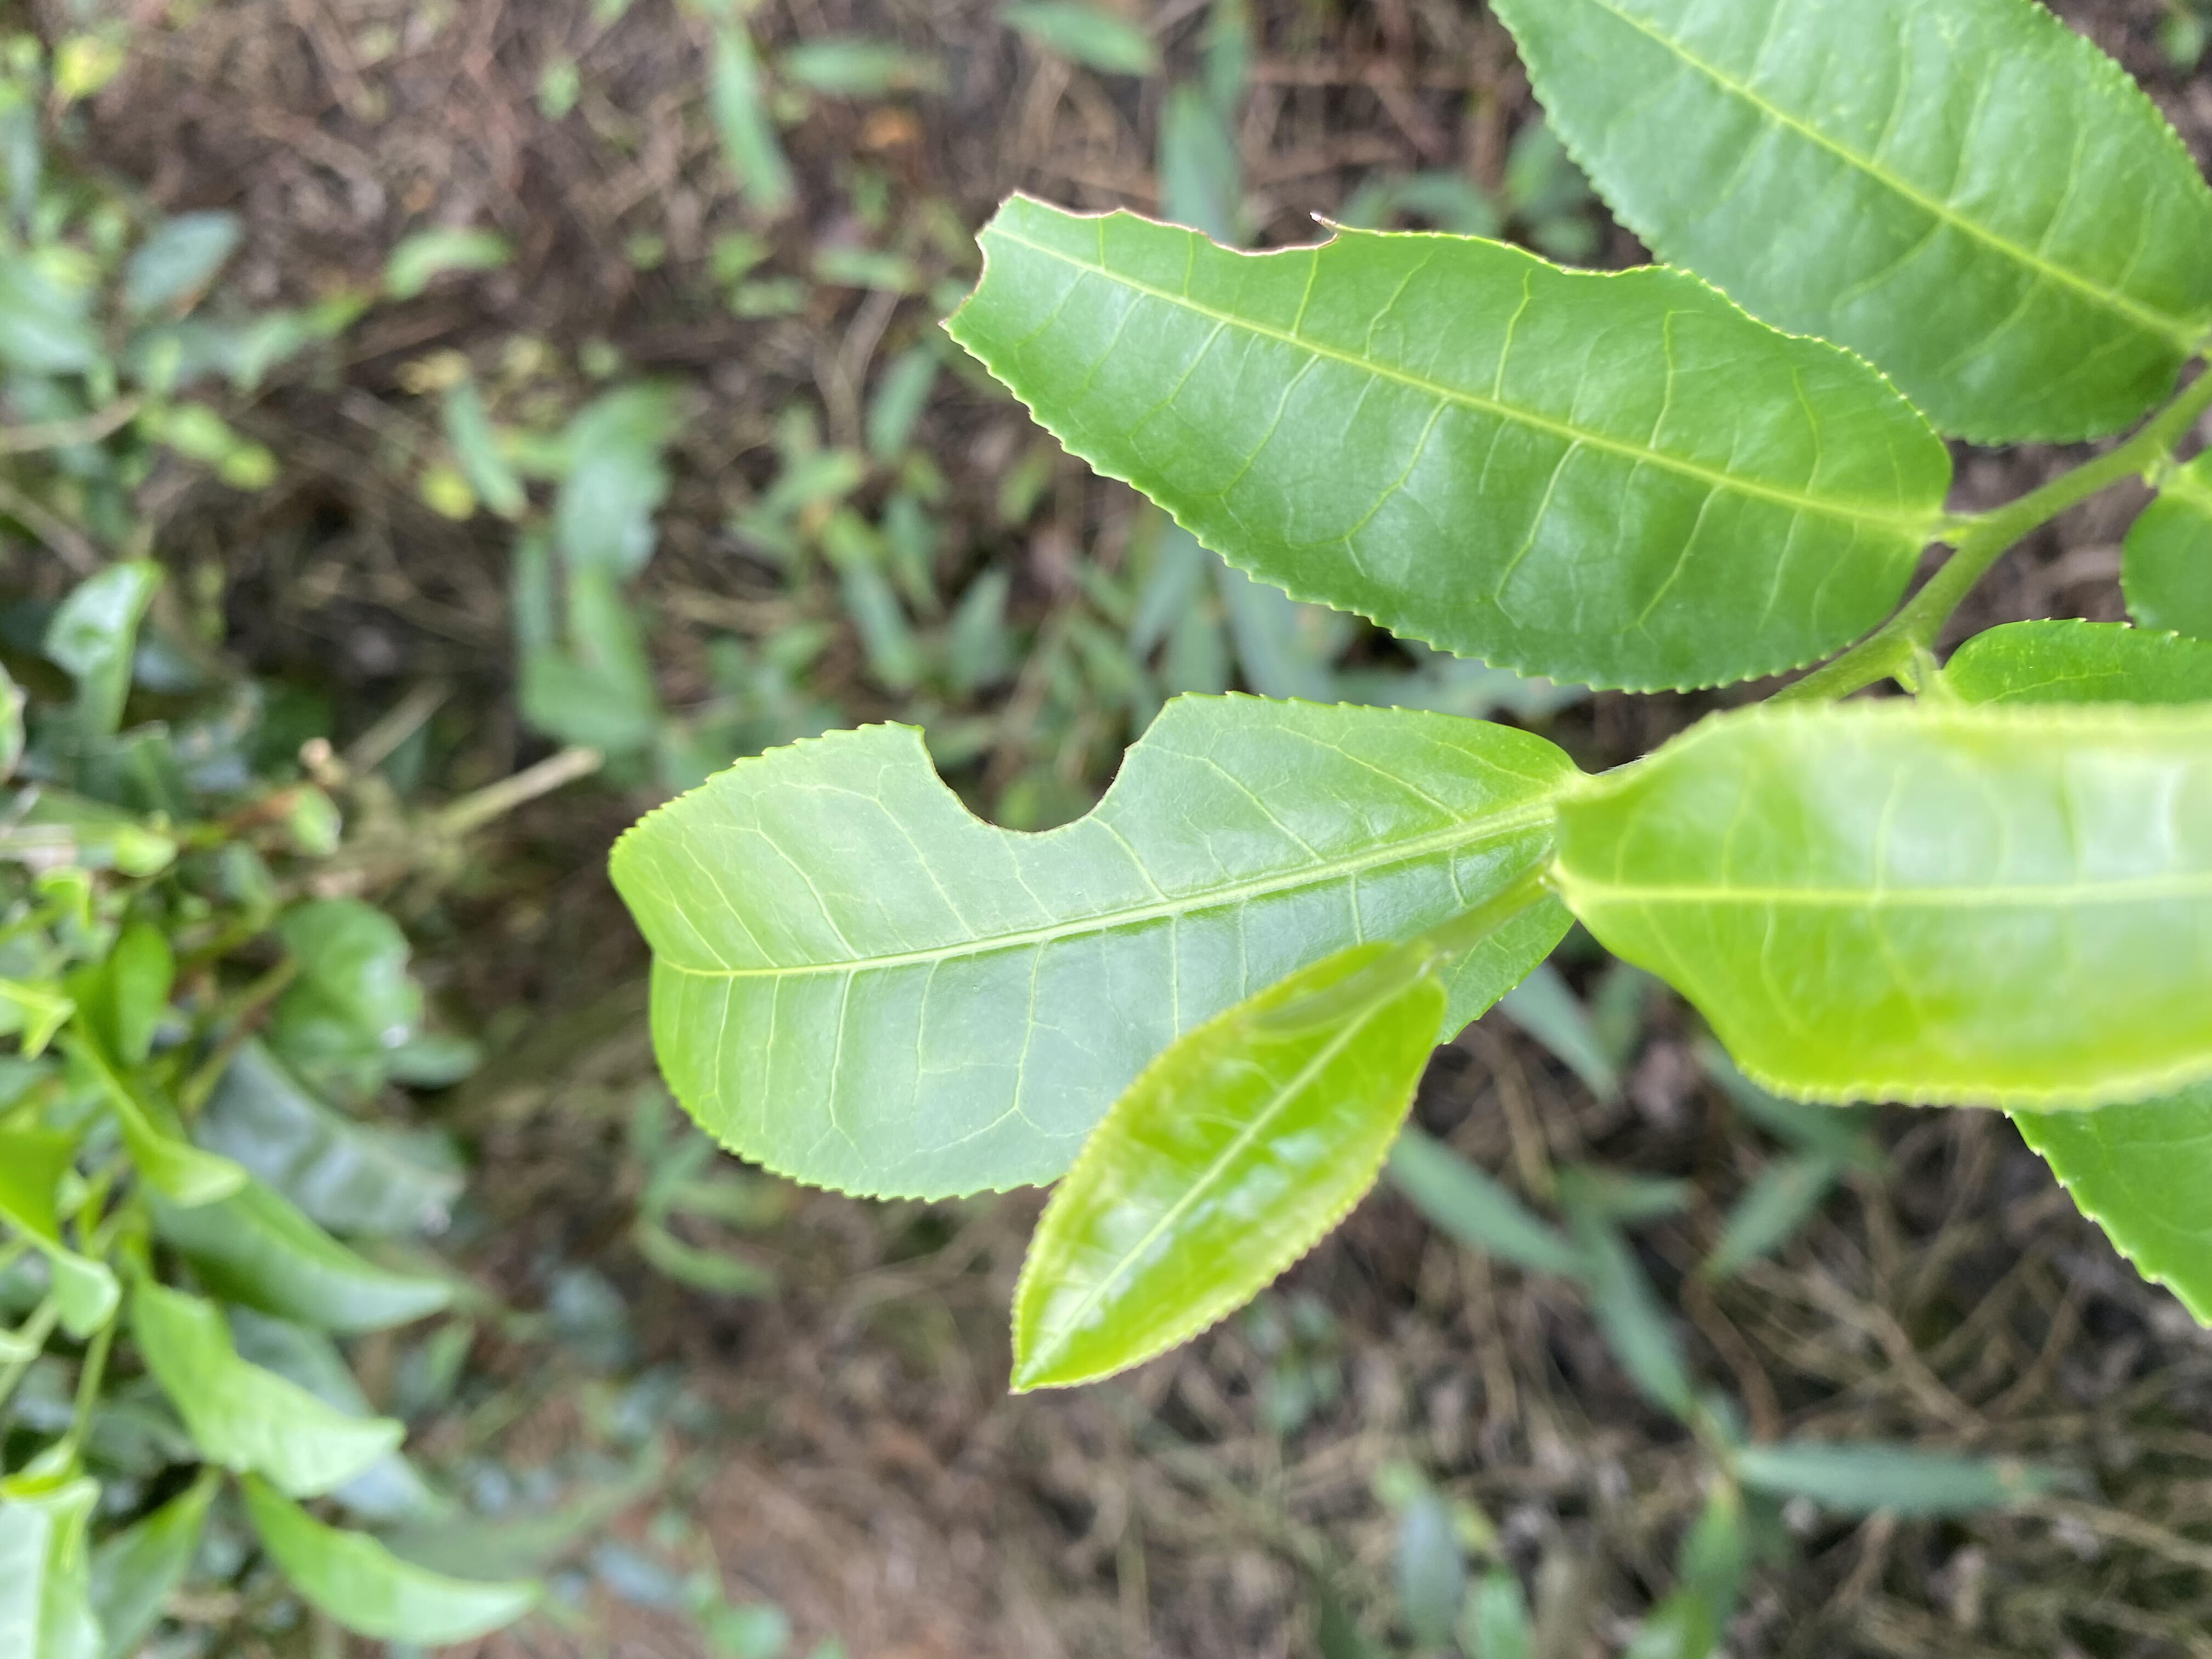chihuo_high: (934, 186, 1949, 695)
chihuo_low: (604, 685, 1580, 1206)
healthy: (1555, 694, 2212, 1115), (1007, 938, 1453, 1398)
